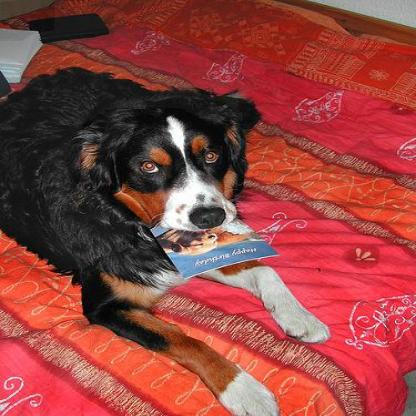Appenzeller: (0, 64, 329, 413)
